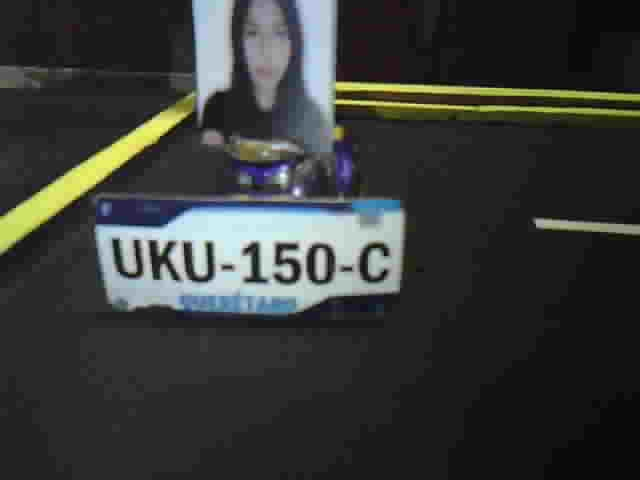PLACA: (90, 190, 406, 322)
ROSTRO: (201, 1, 329, 153)
